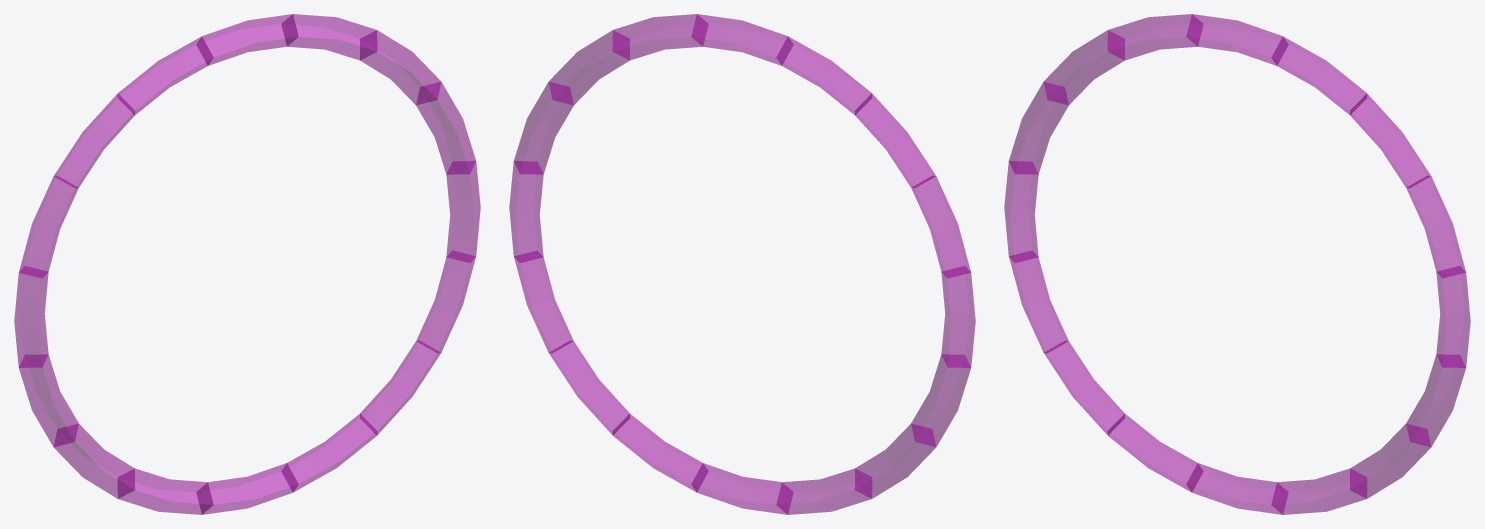
The model's file is Lanes_all.fbx.
3 renders of one model, left to right at view 1: azimuth 30°, elevation 25°; view 2: azimuth 150°, elevation 25°; view 3: azimuth 330°, elevation 25°, orthographic.
Parts seen in each view (by area): view 1: pTorus26, pTorus27, pTorus34, pTorus35, pTorus25, pTorus33, pTorus20, pTorus24, pTorus28, pTorus32, pTorus29, pTorus21 (+4 smaller); view 2: pTorus26, pTorus27, pTorus34, pTorus35, pTorus25, pTorus33, pTorus28, pTorus20, pTorus24, pTorus32, pTorus29, pTorus21 (+4 smaller); view 3: pTorus30, pTorus29, pTorus22, pTorus21, pTorus31, pTorus23, pTorus28, pTorus20, pTorus32, pTorus24, pTorus27, pTorus35 (+4 smaller).
Part boxes in pixels (x1=…): pTorus26: x1=360, y1=30, x2=440, y2=105; pTorus27: x1=281, y1=14, x2=377, y2=60; pTorus34: x1=54, y1=424, x2=135, y2=498; pTorus35: x1=118, y1=468, x2=213, y2=514; pTorus25: x1=416, y1=82, x2=475, y2=174; pTorus33: x1=19, y1=354, x2=78, y2=446; pTorus20: x1=196, y1=463, x2=298, y2=514; pTorus24: x1=446, y1=161, x2=480, y2=262; pTorus28: x1=197, y1=14, x2=298, y2=65; pTorus32: x1=14, y1=266, x2=48, y2=367; pTorus29: x1=118, y1=36, x2=213, y2=114; pTorus21: x1=281, y1=413, x2=377, y2=492; pTorus26: x1=549, y1=30, x2=629, y2=105; pTorus27: x1=612, y1=14, x2=708, y2=60; pTorus34: x1=854, y1=424, x2=935, y2=498; pTorus35: x1=776, y1=468, x2=871, y2=514; pTorus25: x1=514, y1=82, x2=573, y2=174; pTorus33: x1=911, y1=354, x2=970, y2=446; pTorus28: x1=691, y1=14, x2=793, y2=65; pTorus20: x1=691, y1=463, x2=793, y2=514; pTorus24: x1=509, y1=161, x2=543, y2=262; pTorus32: x1=941, y1=266, x2=975, y2=367; pTorus29: x1=776, y1=36, x2=871, y2=114; pTorus21: x1=612, y1=413, x2=708, y2=492; pTorus30: x1=1044, y1=30, x2=1124, y2=105; pTorus29: x1=1107, y1=14, x2=1203, y2=60; pTorus22: x1=1349, y1=424, x2=1430, y2=498; pTorus21: x1=1271, y1=468, x2=1366, y2=514; pTorus31: x1=1009, y1=82, x2=1068, y2=174; pTorus23: x1=1406, y1=354, x2=1465, y2=446; pTorus28: x1=1186, y1=14, x2=1288, y2=65; pTorus20: x1=1186, y1=463, x2=1288, y2=514; pTorus32: x1=1004, y1=161, x2=1038, y2=262; pTorus24: x1=1436, y1=266, x2=1470, y2=367; pTorus27: x1=1271, y1=36, x2=1366, y2=114; pTorus35: x1=1107, y1=413, x2=1203, y2=492.
Bounding box in the file's own units: 1.85 × 1.85 × 0.1211.
